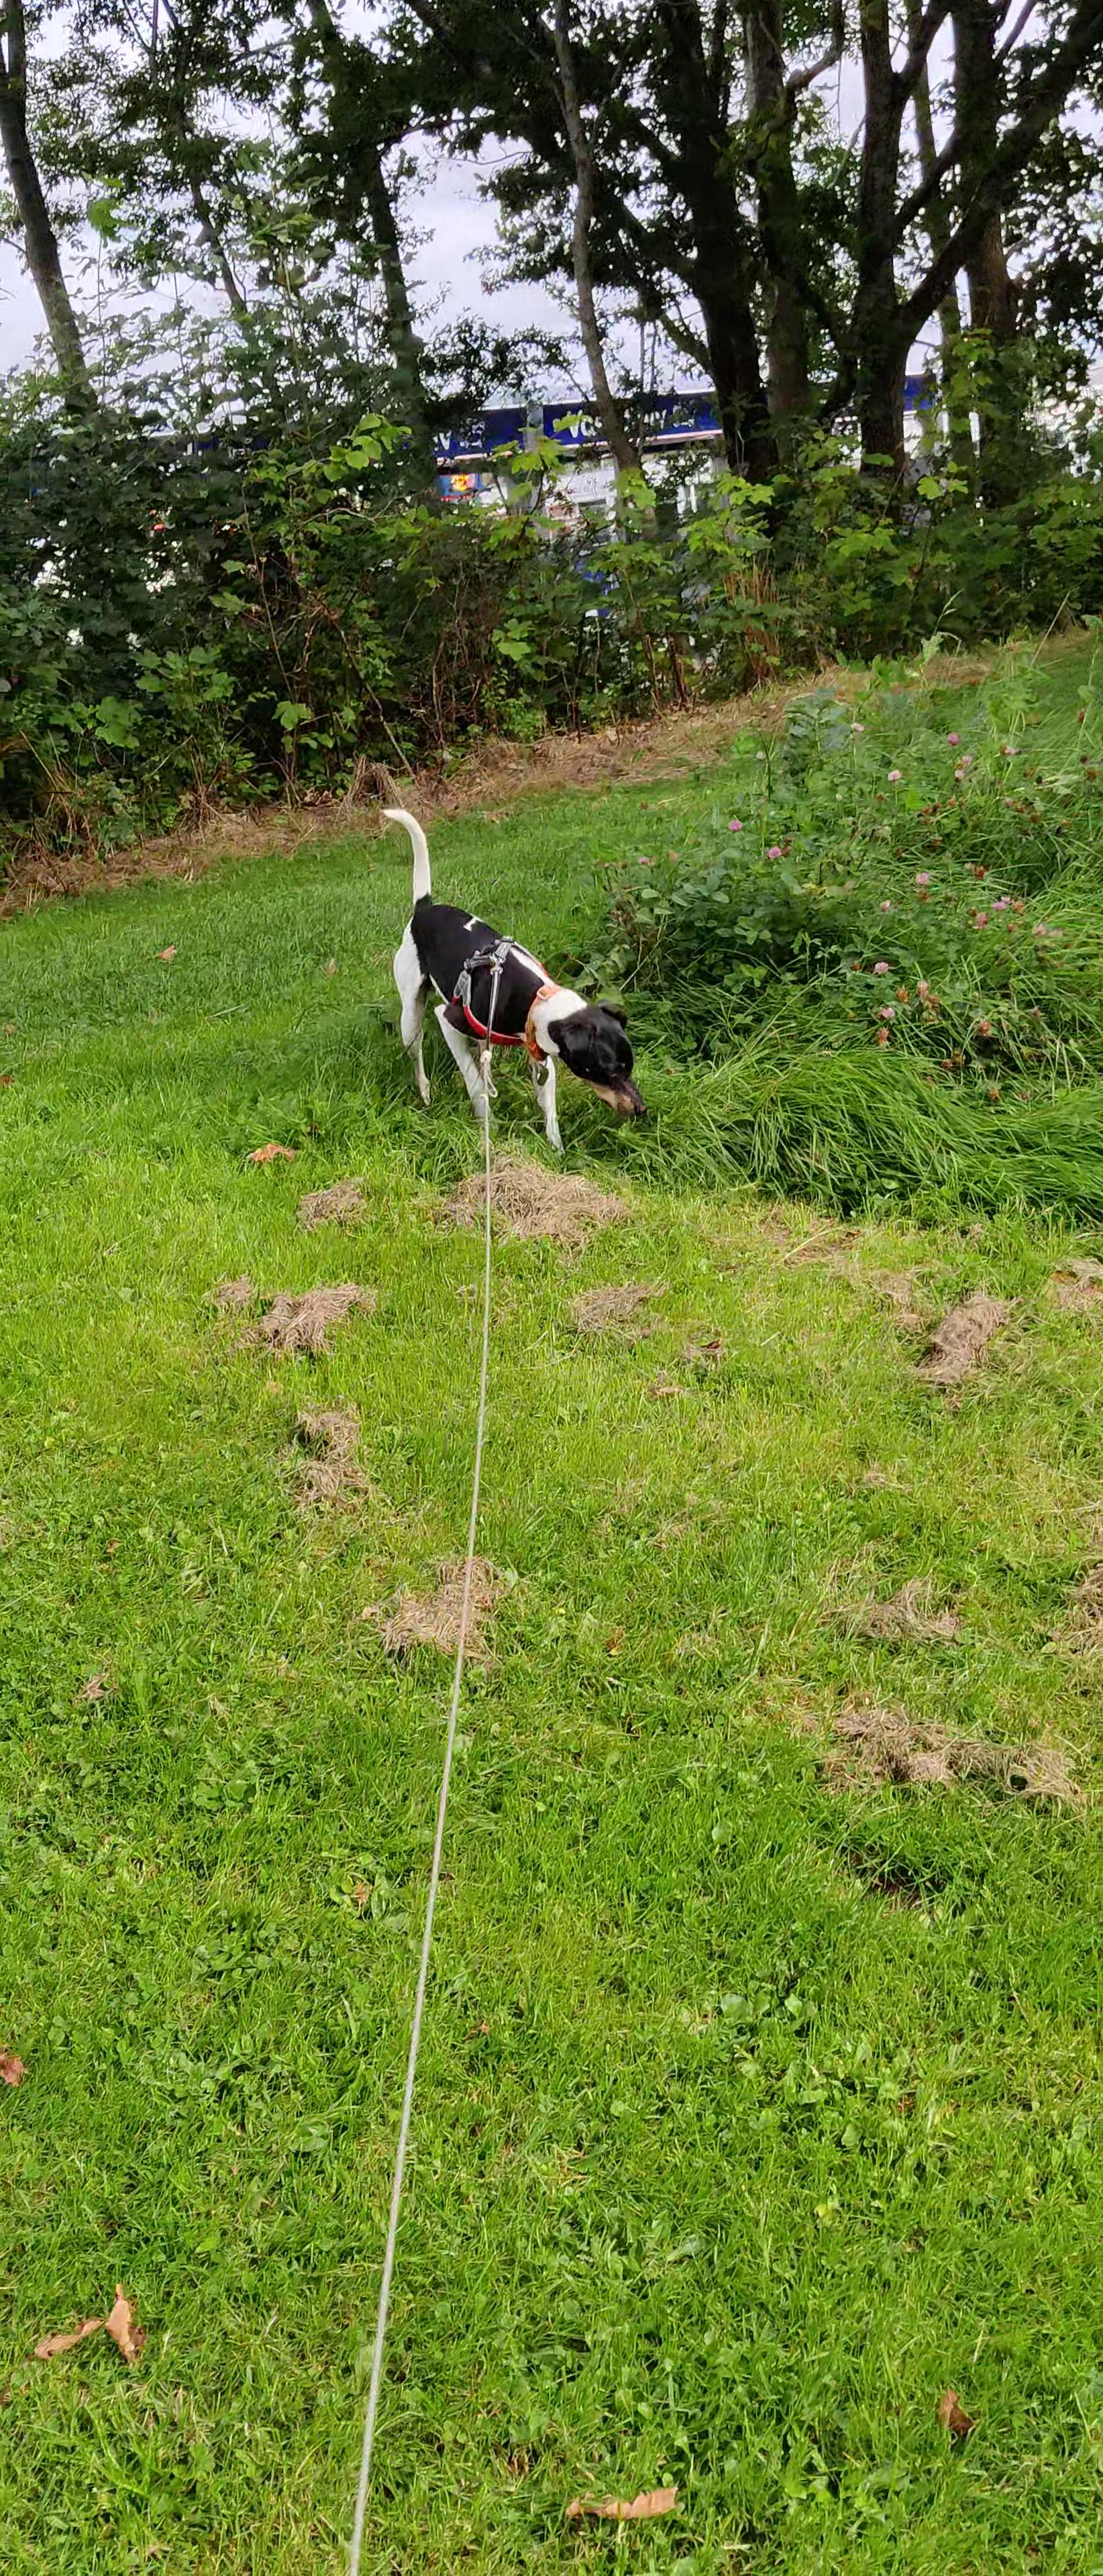Dog: (378, 805, 653, 1153)
